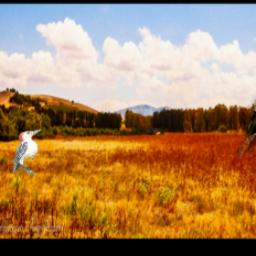Cuckoo: (237, 93, 256, 157)
Woodpecker: (13, 128, 42, 176)
